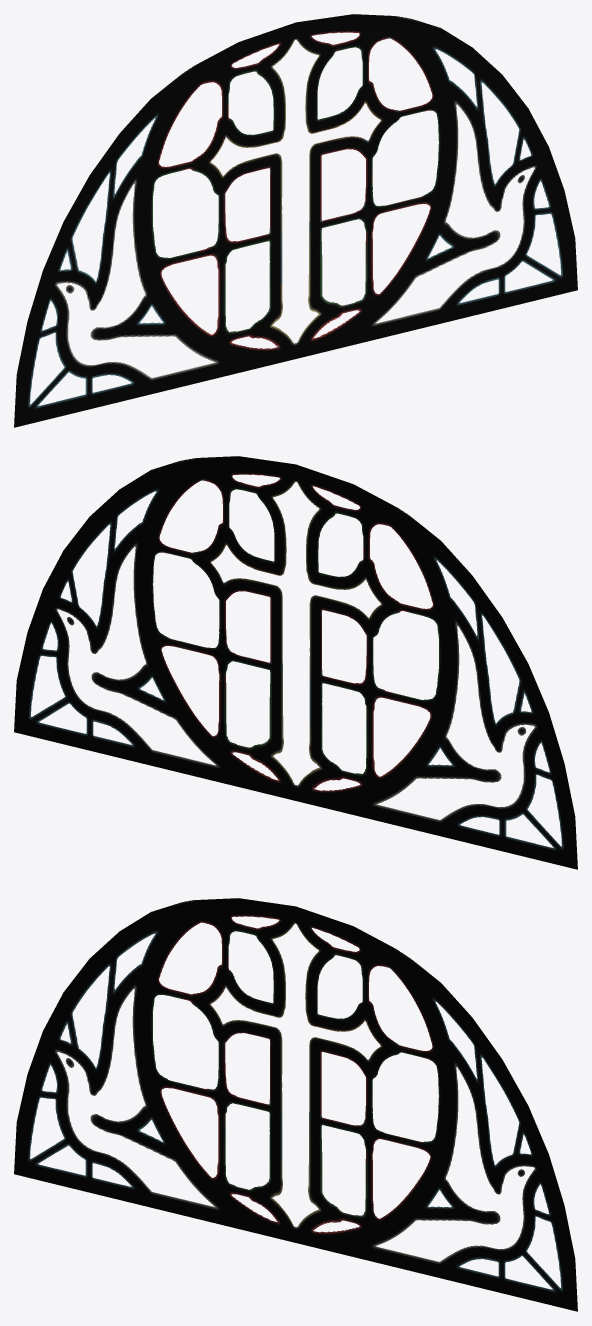
Rendered from SM_Window_HalfPane_Dove.fbx.
3 renders of one model, top to bottom at view 1: azimuth 30°, elevation 25°; view 2: azimuth 150°, elevation 25°; view 3: azimuth 330°, elevation 25°, orthographic.
Visible parts, largest first — view 1: SM_Window_HalfPane_Dove; view 2: SM_Window_HalfPane_Dove; view 3: SM_Window_HalfPane_Dove.
Part boxes in pixels (box(x1,y1,x2,y2)): SM_Window_HalfPane_Dove: box(14, 14, 577, 427); SM_Window_HalfPane_Dove: box(14, 456, 577, 869); SM_Window_HalfPane_Dove: box(14, 898, 577, 1311).
Bounding box in the file's own units: 108 × 61.85 × 1.73e-05.
